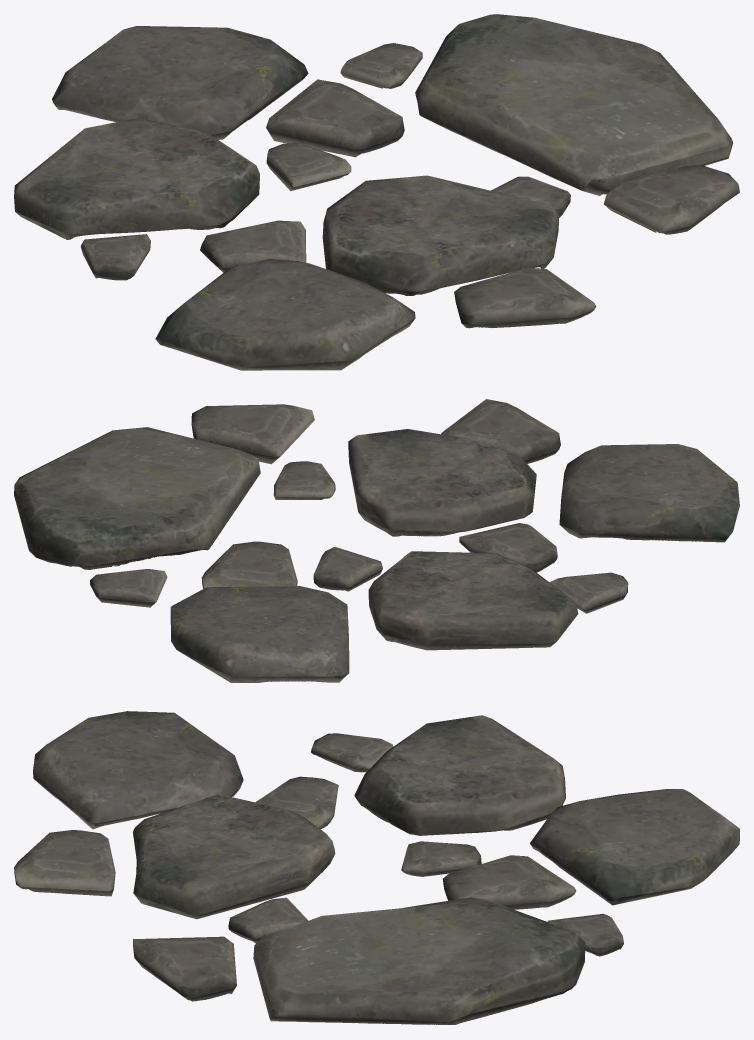
3 views of the same model, one above another, from view 1: azimuth 30°, elevation 25°; view 2: azimuth 150°, elevation 25°; view 3: azimuth 270°, elevation 25° (orthographic). The views are drawn at different scales.
Visible parts, largest first — view 1: SM_DeathTemple_Cobble_Road_02v1_LOD0; view 2: SM_DeathTemple_Cobble_Road_02v1_LOD0; view 3: SM_DeathTemple_Cobble_Road_02v1_LOD0.
Boxes of the visible parts, box(x1,y1,x2,y2) form: SM_DeathTemple_Cobble_Road_02v1_LOD0: box(14, 14, 739, 370); SM_DeathTemple_Cobble_Road_02v1_LOD0: box(14, 399, 739, 682); SM_DeathTemple_Cobble_Road_02v1_LOD0: box(14, 711, 739, 1024).
Size of the model in its own units: 1.54 by 0.1156 by 1.57.
1 material, 1 textured.
